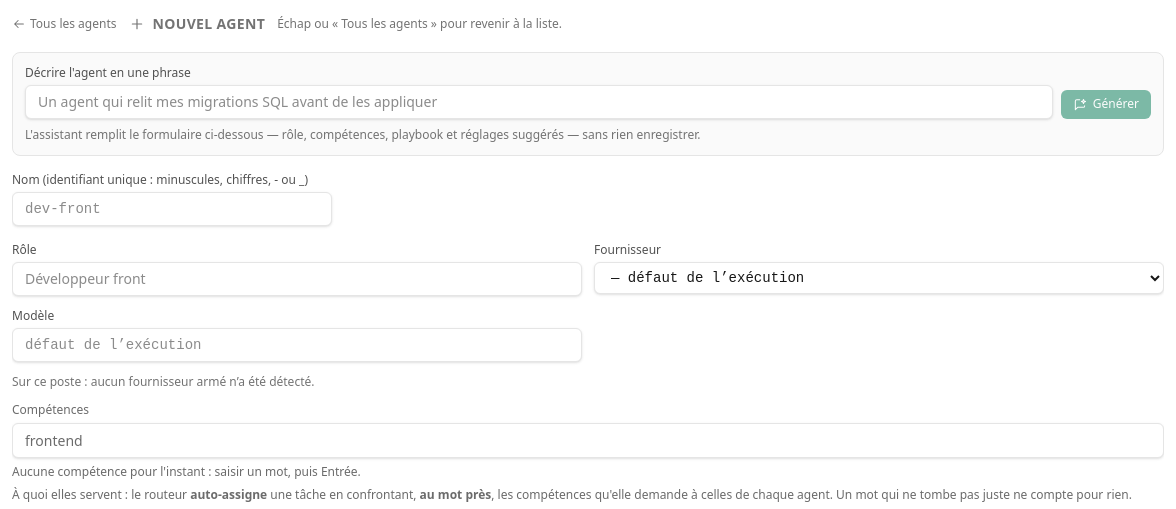
Test: ② l'assistant remplit le formulaire sans rien enregistrer › pose la proposition dans les champs, et le dit
Type "Un agent qui relit mes migrations SQL" into the field labelled "Décrire l'agent en une phrase" at (539, 102), box [25,85,1053,119]
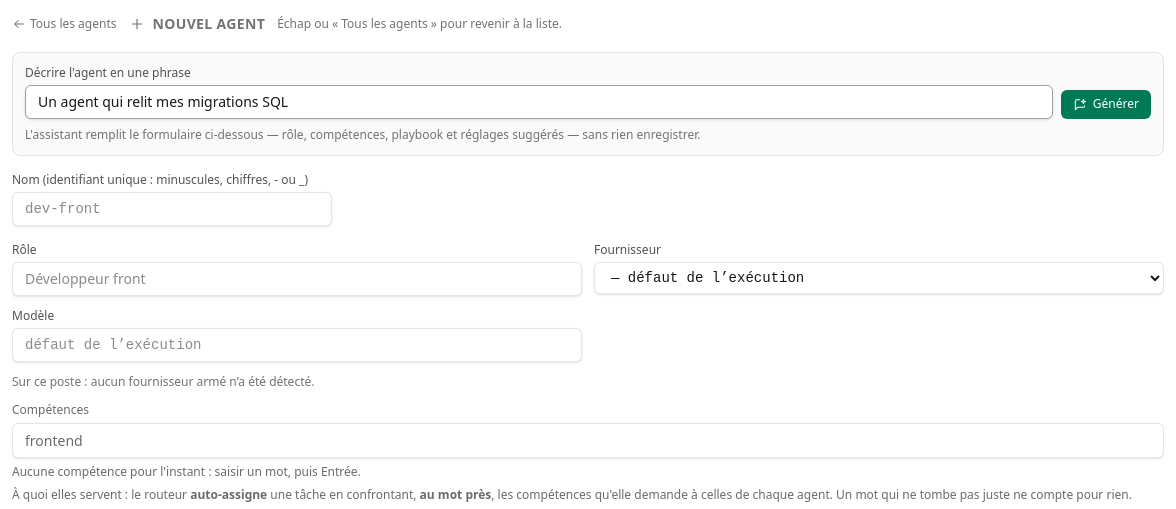
Click the button "Générer" at (1106, 105), box [1061,90,1151,119]
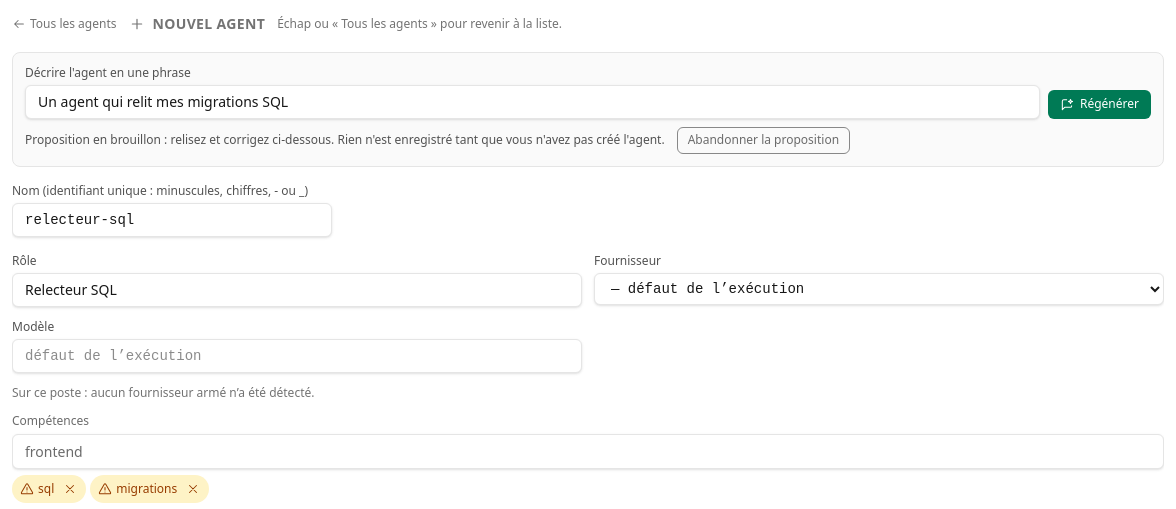
Now the field labelled "Nom (identifiant unique : minuscules, chiffres, - ou _)" holds "relecteur-sql", box [12,203,332,237]
Now the field labelled "Rôle" holds "Relecteur SQL", box [12,273,582,307]
Now the message shows "Proposition en brouillon", box [25,131,665,148]
